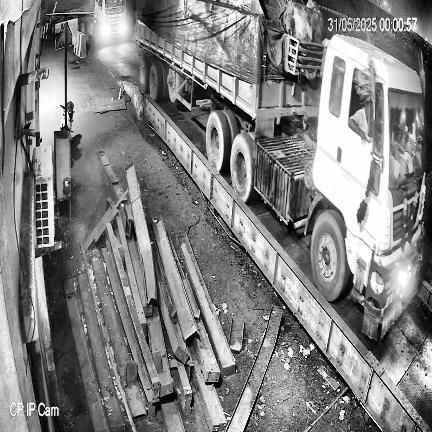tyre: (311, 210, 350, 301), (231, 133, 255, 202), (206, 111, 231, 171), (150, 61, 164, 101), (167, 68, 182, 102), (224, 110, 239, 144), (139, 56, 150, 93)
